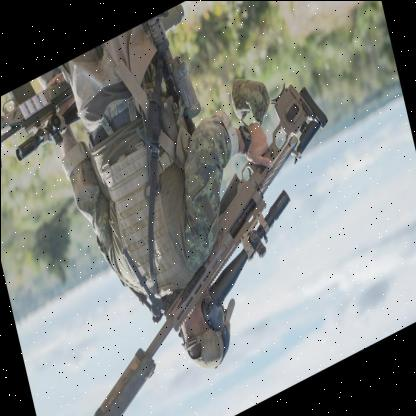rifle: (106, 69, 361, 371)
